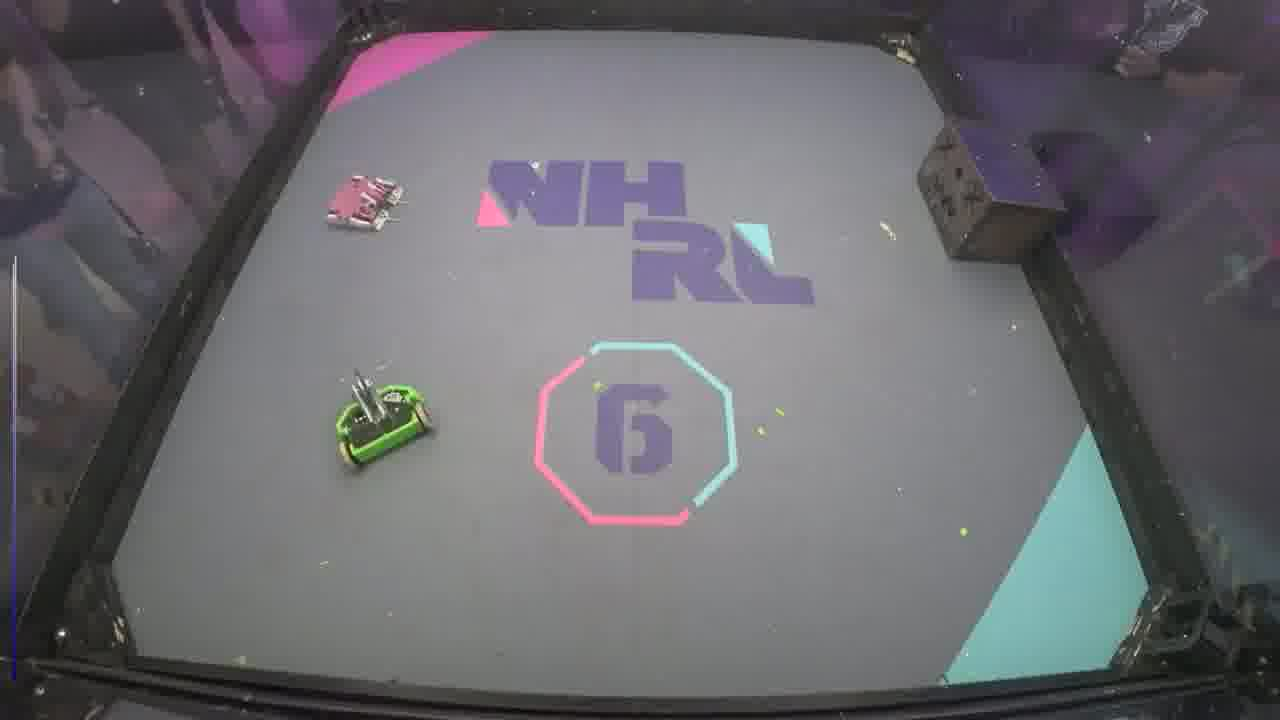combatbot: (330, 383, 437, 469), (324, 173, 406, 235)
housebot: (916, 121, 1066, 268)
